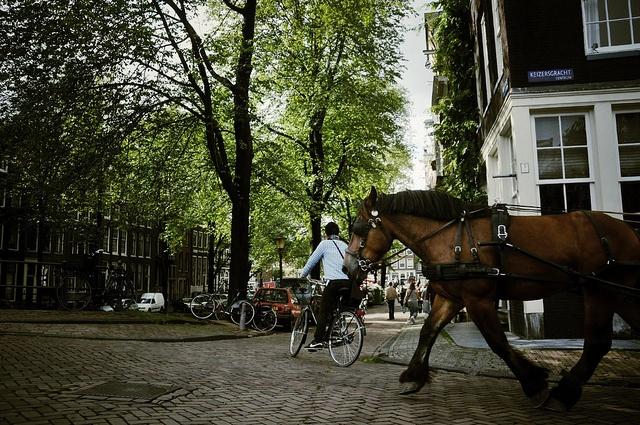non-vehicle: (288, 281, 366, 366), (192, 279, 253, 325), (249, 296, 279, 333)
